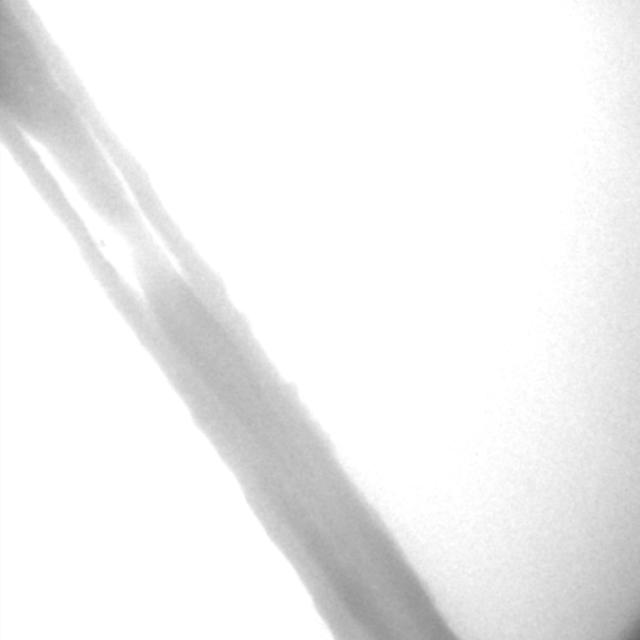unfused: (17, 125, 193, 314)
